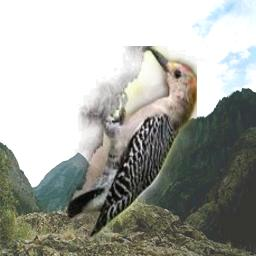Woodpecker: (67, 46, 197, 237)
